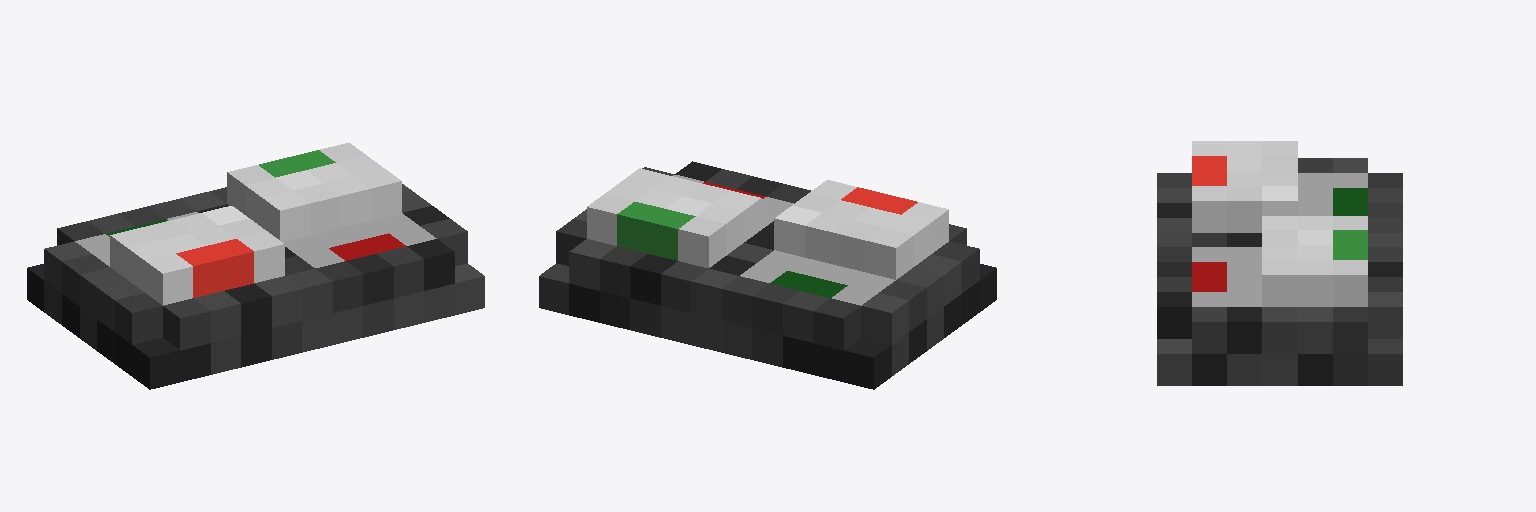
3 views of the same model, side by side, from view 1: azimuth 30°, elevation 25°; view 2: azimuth 150°, elevation 25°; view 3: azimuth 270°, elevation 25° (orthographic).
Visible parts, largest first — view 1: object 1; view 2: object 1; view 3: object 1.
Boxes of the visible parts, x1=… form: object 1: x1=27, y1=143, x2=484, y2=389; object 1: x1=539, y1=161, x2=996, y2=389; object 1: x1=1157, y1=141, x2=1402, y2=385.
Bounding box in the file's own units: 1.1 × 0.3 × 0.7.
1 materials, 1 textured.